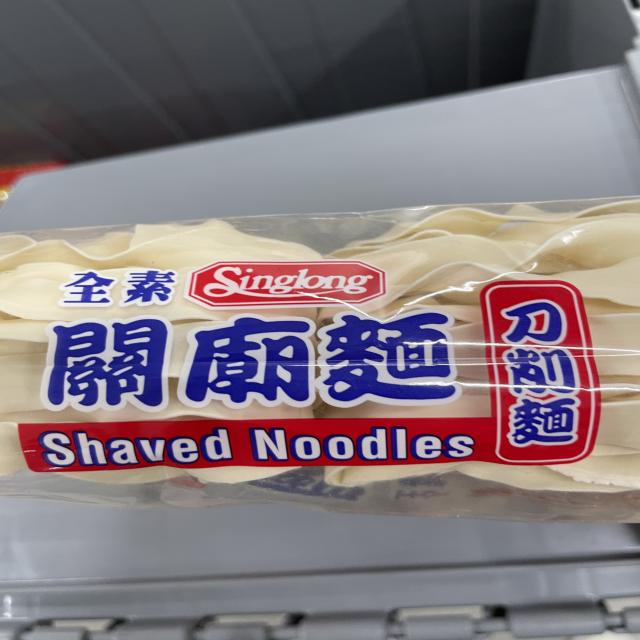object_name: (0, 221, 640, 502)
